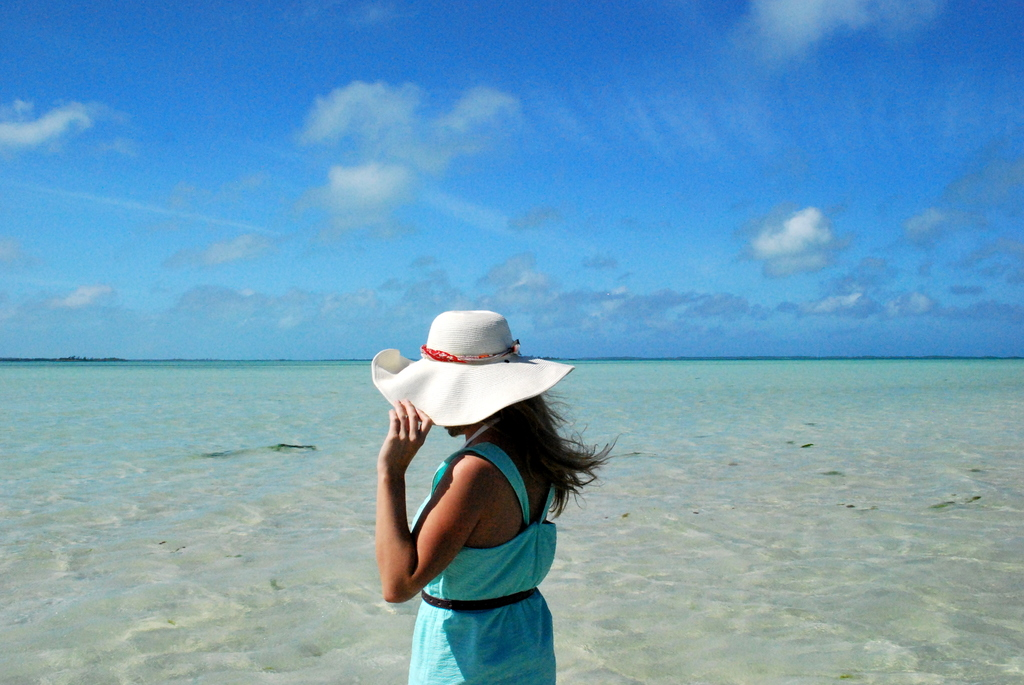Human_hand: (378, 382, 432, 496)
